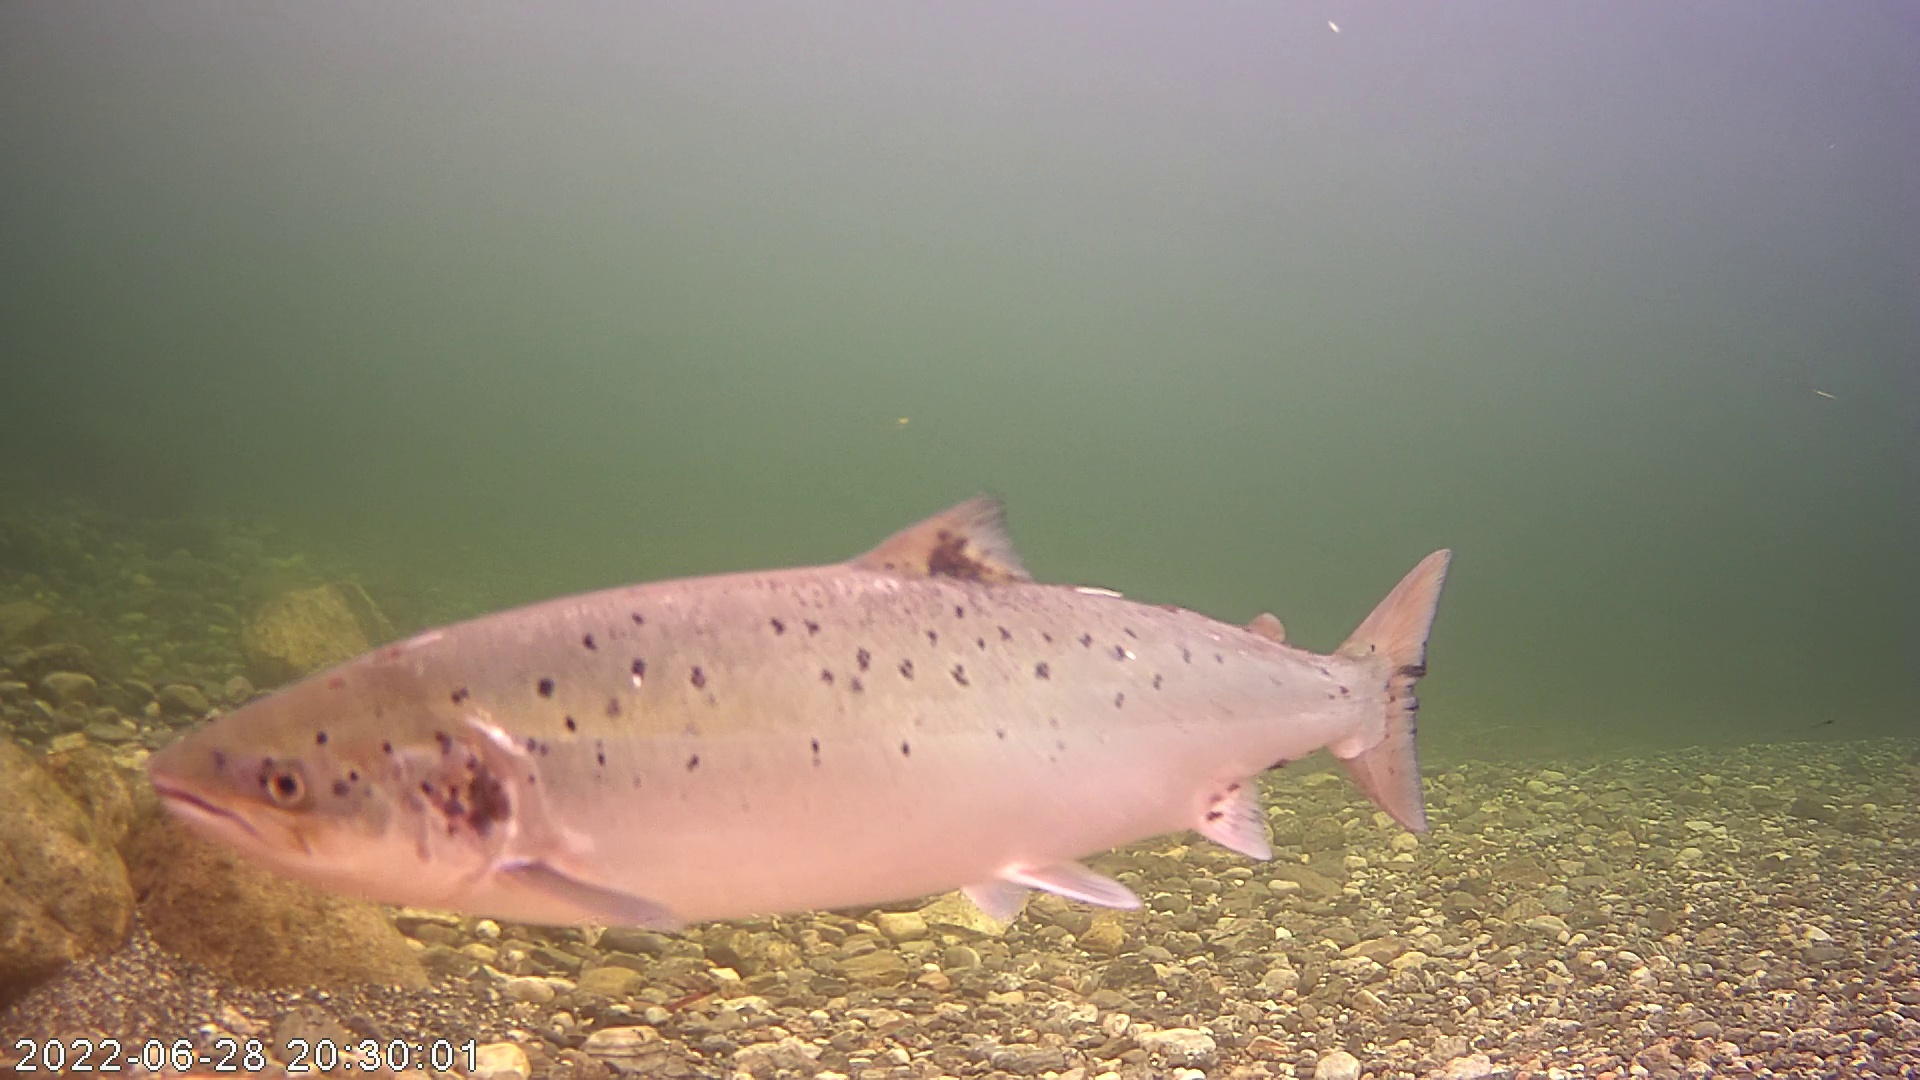salmon: (352, 462, 1455, 927)
